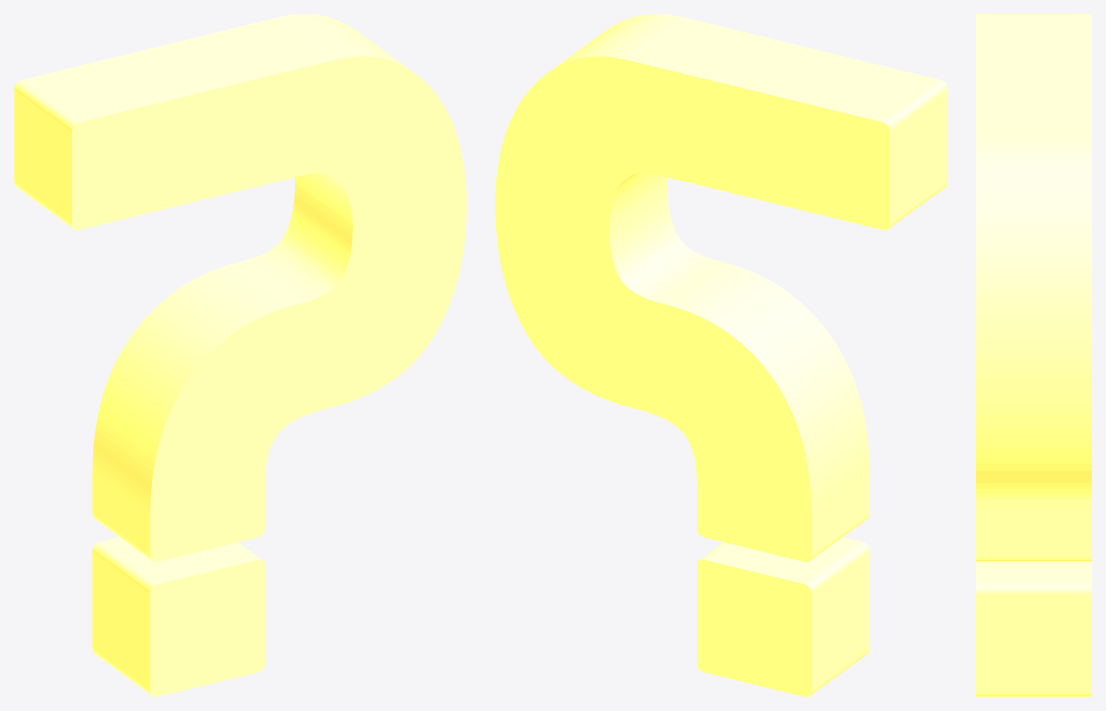
File: questionmark.glb
3 views of the same model, side by side, from view 1: azimuth 30°, elevation 25°; view 2: azimuth 150°, elevation 25°; view 3: azimuth 270°, elevation 25° (orthographic).
Visible parts, largest first — view 1: Text.001; view 2: Text.001; view 3: Text.001.
Part boxes in pixels (x1,y1,x2,y2): Text.001: (14,14,466,696); Text.001: (495,14,947,696); Text.001: (976,14,1091,696).
Bounding box in the file's own units: 19.71 × 28.32 × 5.01.
